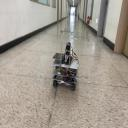cart: (52, 57, 78, 91)
